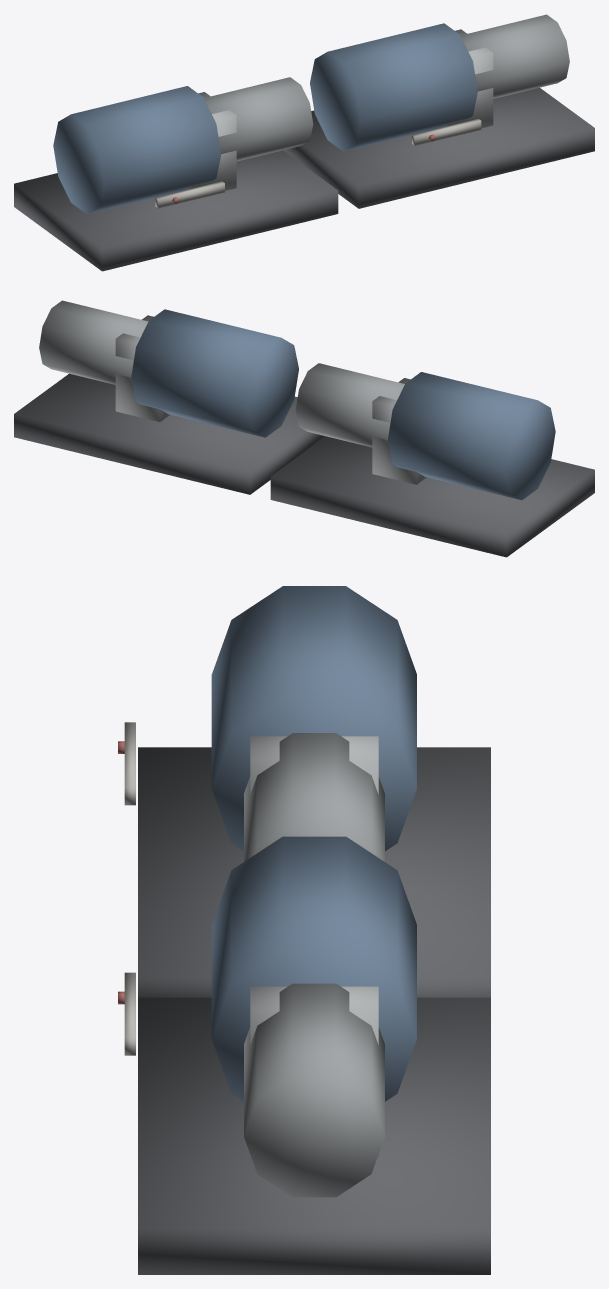
File: pump_skid__cluster.glb
3 renders of one model, top to bottom at view 1: azimuth 30°, elevation 25°; view 2: azimuth 150°, elevation 25°; view 3: azimuth 270°, elevation 25°, orthographic. The views are drawn at different scales.
Visible parts, largest first — view 1: world; view 2: world; view 3: world.
Boxes of the visible parts, x1,y1,x2,y2 form: world: [14, 14, 594, 271]; world: [14, 300, 594, 557]; world: [118, 586, 490, 1274].
Size of the model in its own units: 1.78 by 0.3922 by 0.581.
